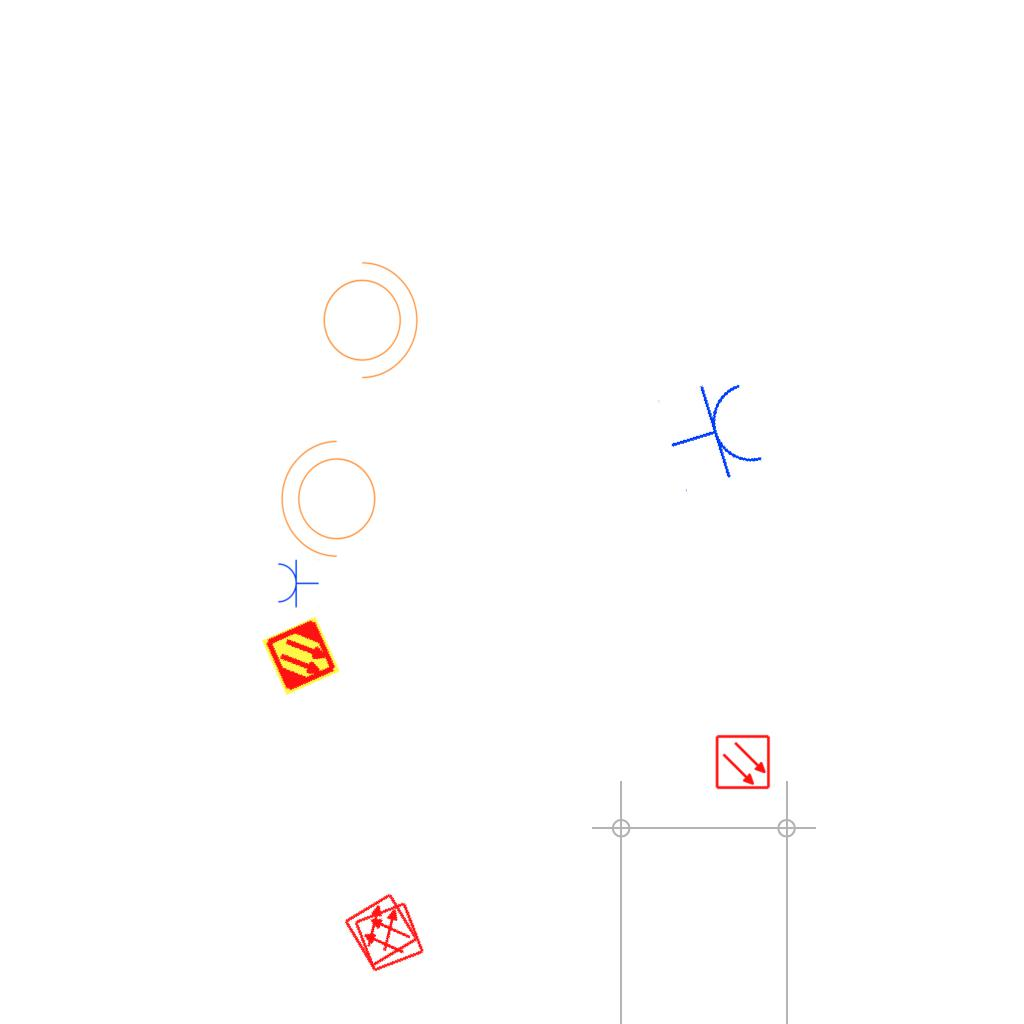ASR_Ansaugrauchmelder: (260, 615, 342, 697)
RMO_Rauchmelder_optischer: (342, 891, 420, 969), (352, 900, 426, 974), (715, 734, 771, 790)
Scheinwerfer_fuer_Alarmbeleuchtung: (276, 436, 388, 568), (311, 251, 423, 383)
Schukosteckdose_einfach: (656, 372, 770, 495), (276, 558, 319, 608)
